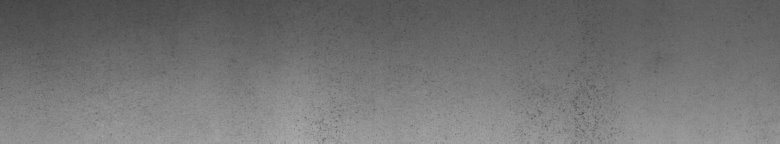ib: (521, 57, 607, 136)
